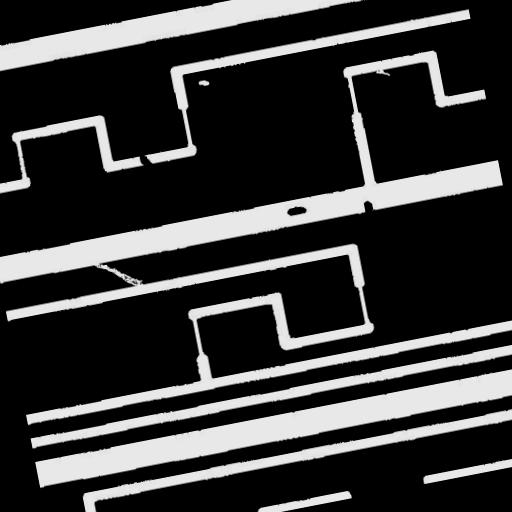copper: (278, 196, 316, 225)
mousebite: (366, 60, 399, 88)
open: (84, 246, 152, 303)
pin-hole: (189, 70, 218, 96)
short: (130, 144, 161, 177)
spur: (354, 191, 382, 224)
